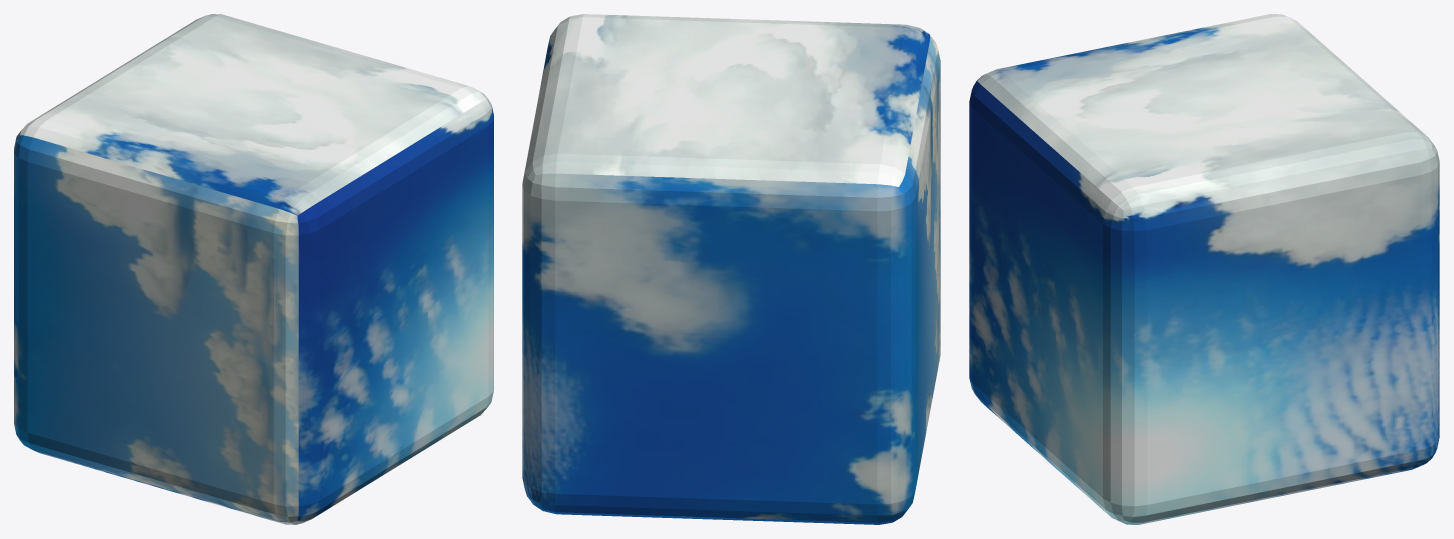
Rendered from 010_Candy_Box_01.fbx.
The picture shows the model from 3 angles, left to right: view 1: azimuth 30°, elevation 25°; view 2: azimuth 150°, elevation 25°; view 3: azimuth 270°, elevation 25°; orthographic projection. The views are drawn at different scales.
Parts seen in each view (by area): view 1: Cube.003; view 2: Cube.003; view 3: Cube.003.
Boxes of the visible parts, box(x1,y1,x2,y2) form: Cube.003: box(14, 14, 493, 524); Cube.003: box(522, 14, 940, 524); Cube.003: box(969, 14, 1439, 524).
Size of the model in its own units: 144 by 113 by 144.
